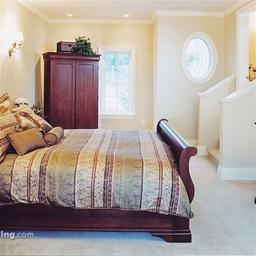Armario: (53, 53, 98, 123)
Cama: (6, 116, 195, 240)
Escaleras: (195, 79, 253, 168)
